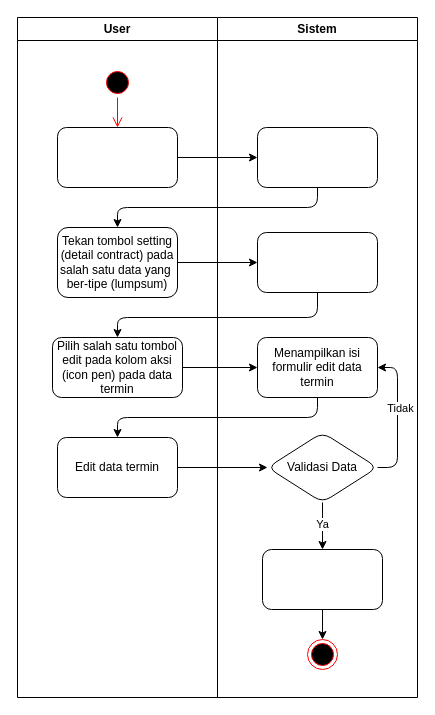
Image size: 435x715. Some labels were removed from this diagram. Here are the shapes that lost their labels. From the top down, the centre of each, then its label:
At pixel 117 157: "Pilih fitur contract".
At pixel 317 157: "Menampilkan halaman Contract".
At pixel 317 262: "Menampilkan detail contract beserta termin-nya".
At pixel 322 579: "Menyimpan perubahan data termin".
